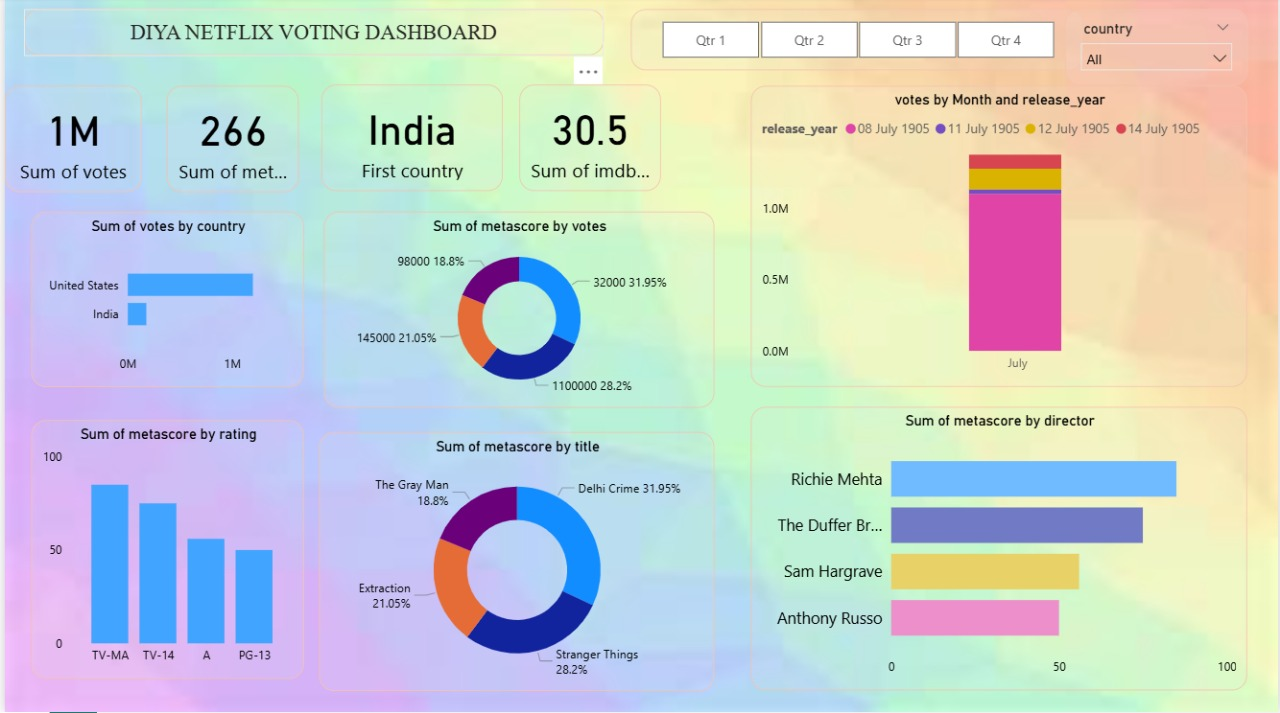

What the dashboard file says about the page in this screenshot:
{"tool":"powerbi","page":{"name":"Page 1","canvas":[1280,720],"ordinal":0},"visuals":[{"type":"textbox","box":[19.2,12.3,583.2,46.7],"z":0},{"type":"columnChart","title":" votes by Month and release_year","fields":{"Series":["netflix_titles.release_year"],"Category":["netflix_titles.release_year.Variation.Date Hierarchy.Month"],"Y":["imdb_ratings.votes"]},"box":[750.6,89.2,499.5,303.3],"z":1000},{"type":"barChart","fields":{"Y":["imdb_ratings.metascore"],"Category":["netflix_titles.director"]},"box":[750.6,413,499.5,285.4],"z":2000},{"type":"donutChart","fields":{"Y":["imdb_ratings.metascore"],"Category":["netflix_titles.title"]},"box":[315.6,437.7,397.9,260.7],"z":3000},{"type":"donutChart","fields":{"Y":["imdb_ratings.metascore"],"Category":["imdb_ratings.votes"]},"box":[321.1,215.4,392.5,197.6],"z":4000},{"type":"card","fields":{"Values":["imdb_ratings.votes"]},"box":[0,89.2,137.2,107],"z":5000},{"type":"card","fields":{"Values":["imdb_ratings.metascore"]},"box":[163.3,89.2,133.1,107],"z":6000},{"type":"card","fields":{"Values":["netflix_titles.country"]},"box":[318.4,87.8,182.5,107],"z":7000},{"type":"card","fields":{"Values":["imdb_ratings.imdb_score"]},"box":[517.3,87.8,142.7,107],"z":8000},{"type":"barChart","fields":{"Y":["imdb_ratings.votes"],"Category":["netflix_titles.country"]},"box":[26.1,215.4,274.4,177],"z":9000},{"type":"columnChart","fields":{"Y":["imdb_ratings.metascore"],"Category":["netflix_titles.rating"]},"box":[26.1,425.4,274.4,260.7],"z":10000},{"type":"slicer","fields":{"Values":["netflix_titles.release_year.Variation.Date Hierarchy.Quarter"]},"box":[629.8,12.3,455.6,61.7],"z":11000},{"type":"slicer","fields":{"Values":["netflix_titles.country"]},"box":[1066.2,12.3,183.9,76.8],"z":12000}]}

Visuals, with their boxes in screenshot pixels (x1, y1, x2, y2), scaled from the page's 1280x720 canvas onto the 1280x713 screenshot:
textbox: {"x1": 19, "y1": 12, "x2": 602, "y2": 58}
" votes by Month and release_year" columnChart: {"x1": 751, "y1": 88, "x2": 1250, "y2": 389}
barChart - imdb_ratings.metascore x netflix_titles.director: {"x1": 751, "y1": 409, "x2": 1250, "y2": 692}
donutChart - imdb_ratings.metascore x netflix_titles.title: {"x1": 316, "y1": 433, "x2": 714, "y2": 692}
donutChart - imdb_ratings.metascore x imdb_ratings.votes: {"x1": 321, "y1": 213, "x2": 714, "y2": 409}
card - imdb_ratings.votes: {"x1": 0, "y1": 88, "x2": 137, "y2": 194}
card - imdb_ratings.metascore: {"x1": 163, "y1": 88, "x2": 296, "y2": 194}
card - netflix_titles.country: {"x1": 318, "y1": 87, "x2": 501, "y2": 193}
card - imdb_ratings.imdb_score: {"x1": 517, "y1": 87, "x2": 660, "y2": 193}
barChart - imdb_ratings.votes x netflix_titles.country: {"x1": 26, "y1": 213, "x2": 300, "y2": 389}
columnChart - imdb_ratings.metascore x netflix_titles.rating: {"x1": 26, "y1": 421, "x2": 300, "y2": 679}
slicer - netflix_titles.release_year.Variation.Date Hierarchy.Quarter: {"x1": 630, "y1": 12, "x2": 1085, "y2": 73}
slicer - netflix_titles.country: {"x1": 1066, "y1": 12, "x2": 1250, "y2": 88}
